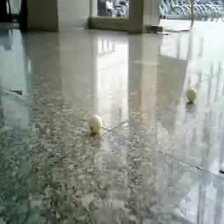w: (87, 113, 104, 134), (185, 87, 198, 102)
